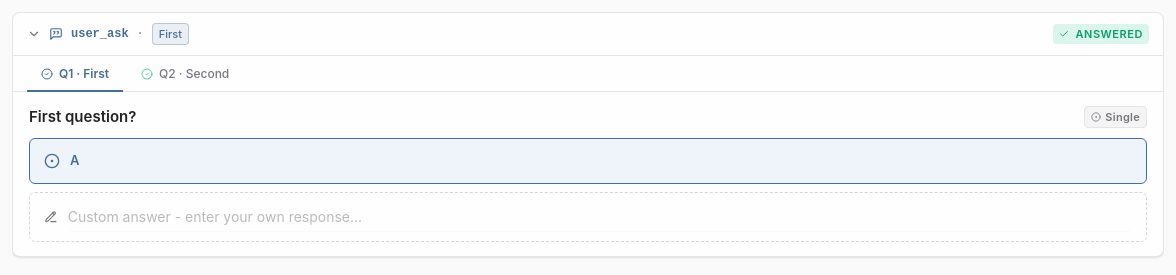
UserAskCard › Given answered multiple questions, When switching question tabs, Then answers remain reviewable but locked
Click the button "Q2 · Second" at (185, 74), box [127,56,243,92]
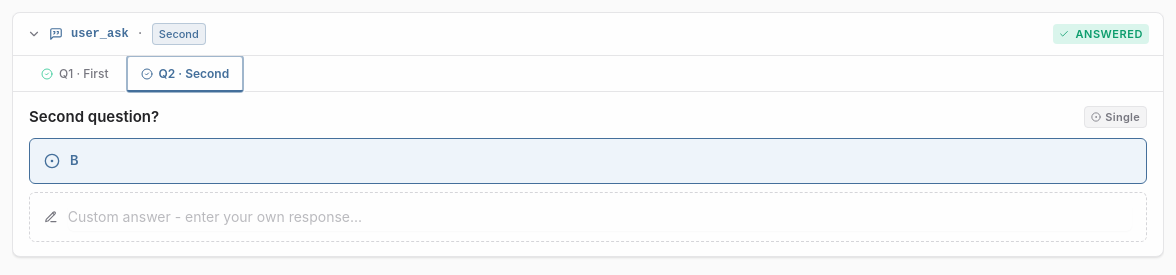
Expected: the button "B" is disabled, [29,138,1147,184]
Now the text "Second question?" is shown, box [29,107,159,126]
